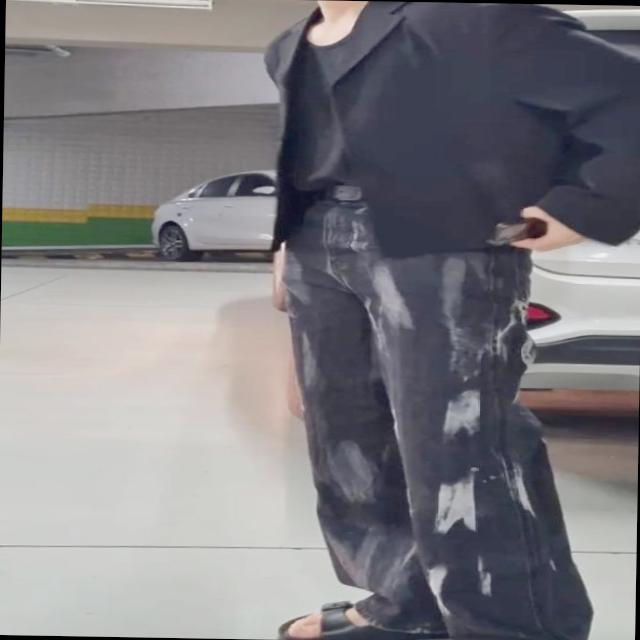blazer: (259, 0, 640, 261)
denimpants: (270, 181, 591, 640)
